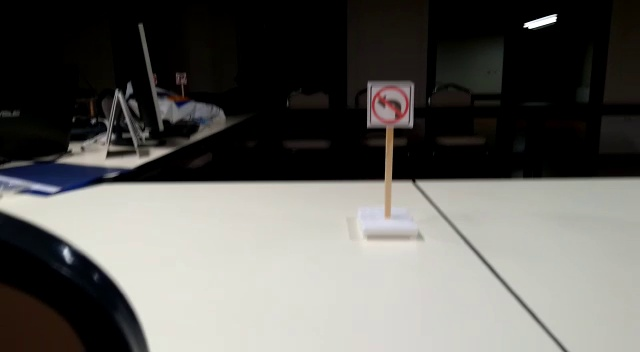sola_donulmez: (368, 80, 410, 129)
